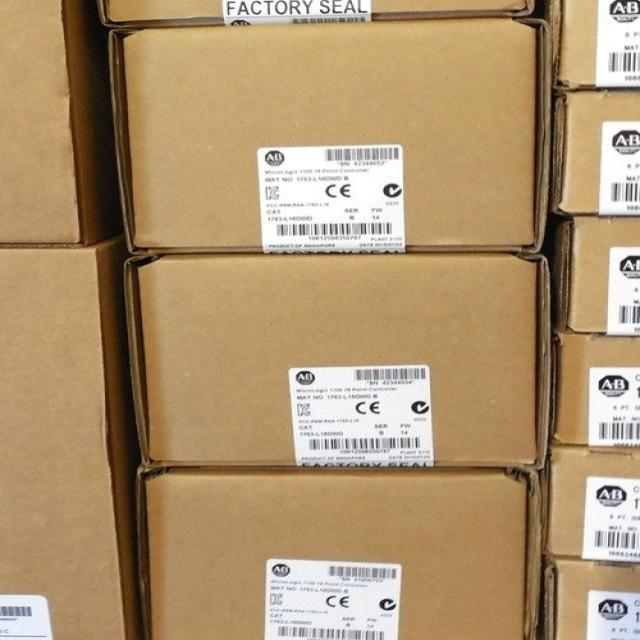box: (108, 17, 549, 251), (131, 252, 545, 473), (140, 470, 540, 638), (1, 233, 146, 636), (0, 2, 121, 244), (97, 1, 539, 29), (539, 440, 639, 563), (546, 86, 639, 216), (546, 329, 639, 450), (553, 214, 639, 334), (538, 555, 639, 639), (553, 1, 638, 87)
